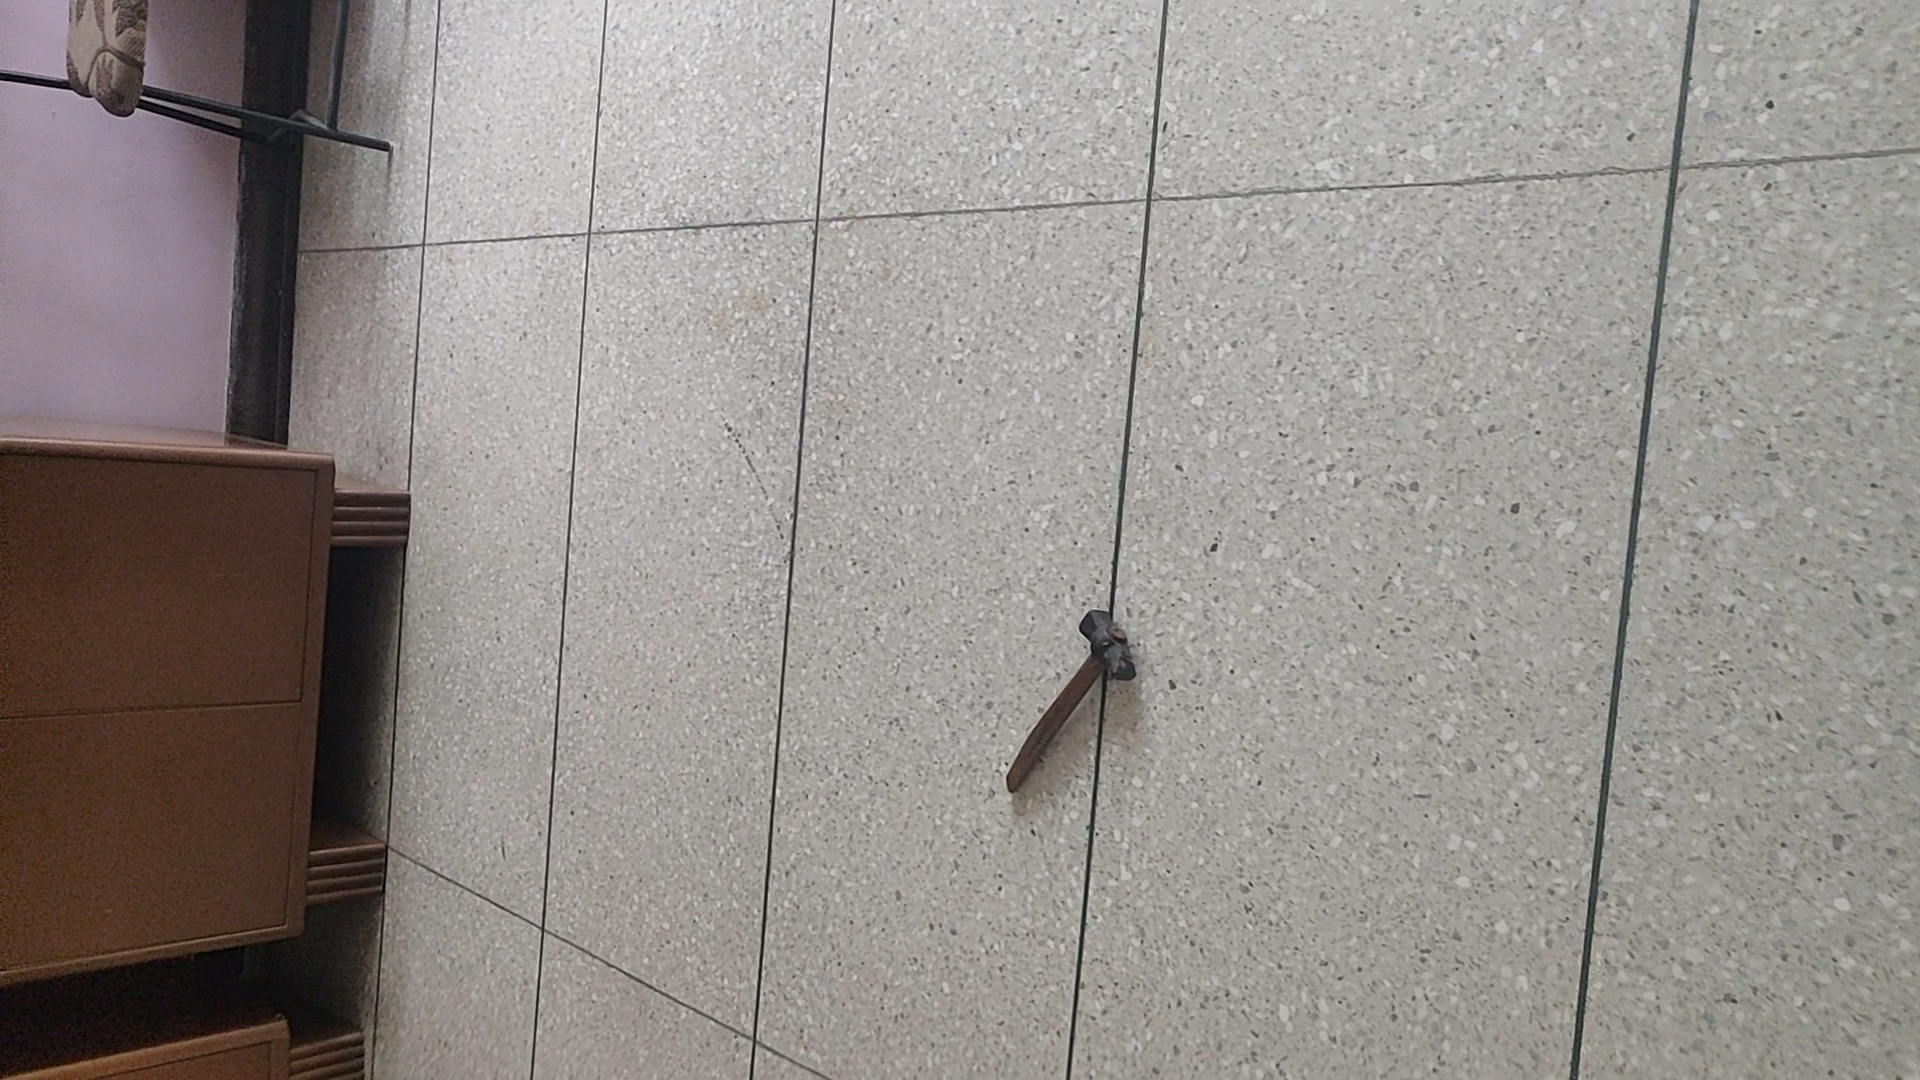hammer: (1001, 608, 1138, 800)
